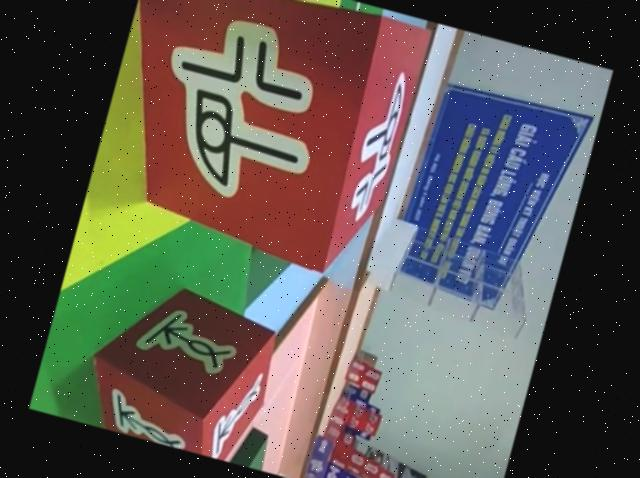R2 Real: (80, 0, 439, 287), (73, 269, 292, 469)
